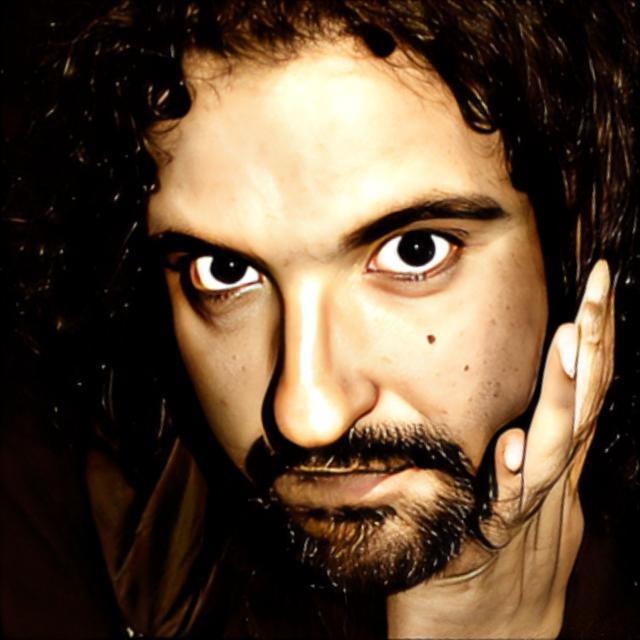fear: (142, 4, 548, 609)
